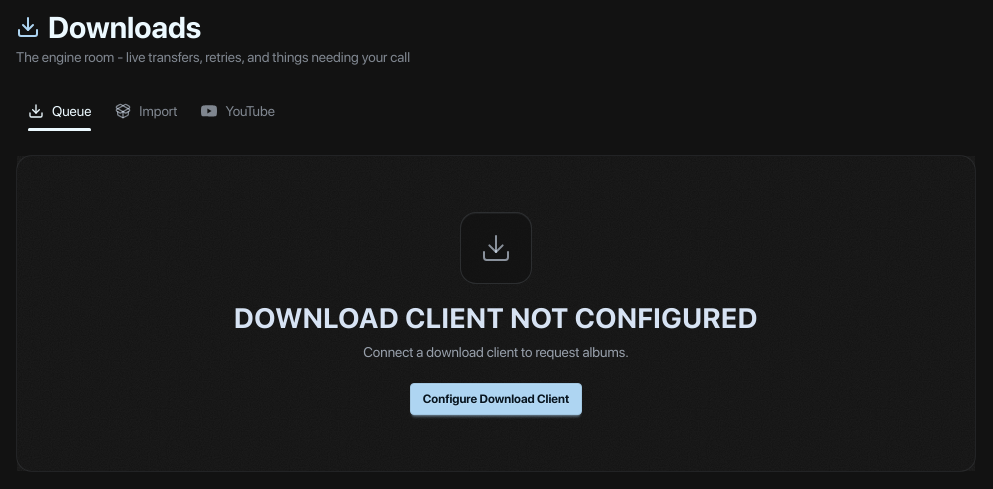
Test: /downloads page › shows the everyone toggle only to admins on the Import tab
Click the tab "Import": (146, 111) [103, 91, 189, 131]
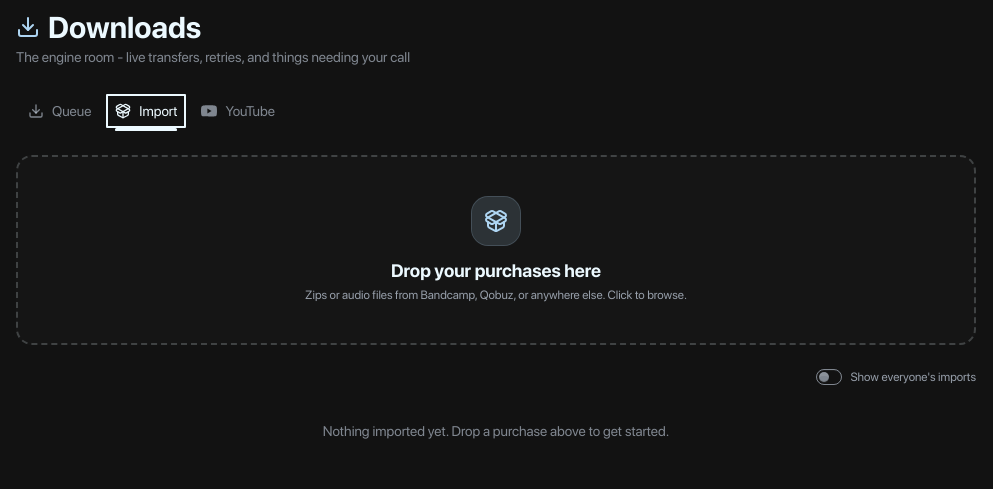
Expected: the text "Show everyone's imports" is shown, [816, 369, 976, 385]
